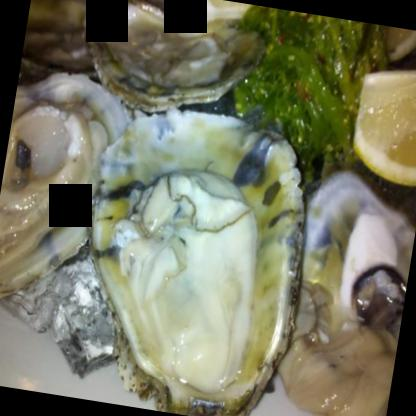oyster: (61, 97, 322, 415), (266, 161, 415, 415), (0, 64, 136, 332)
